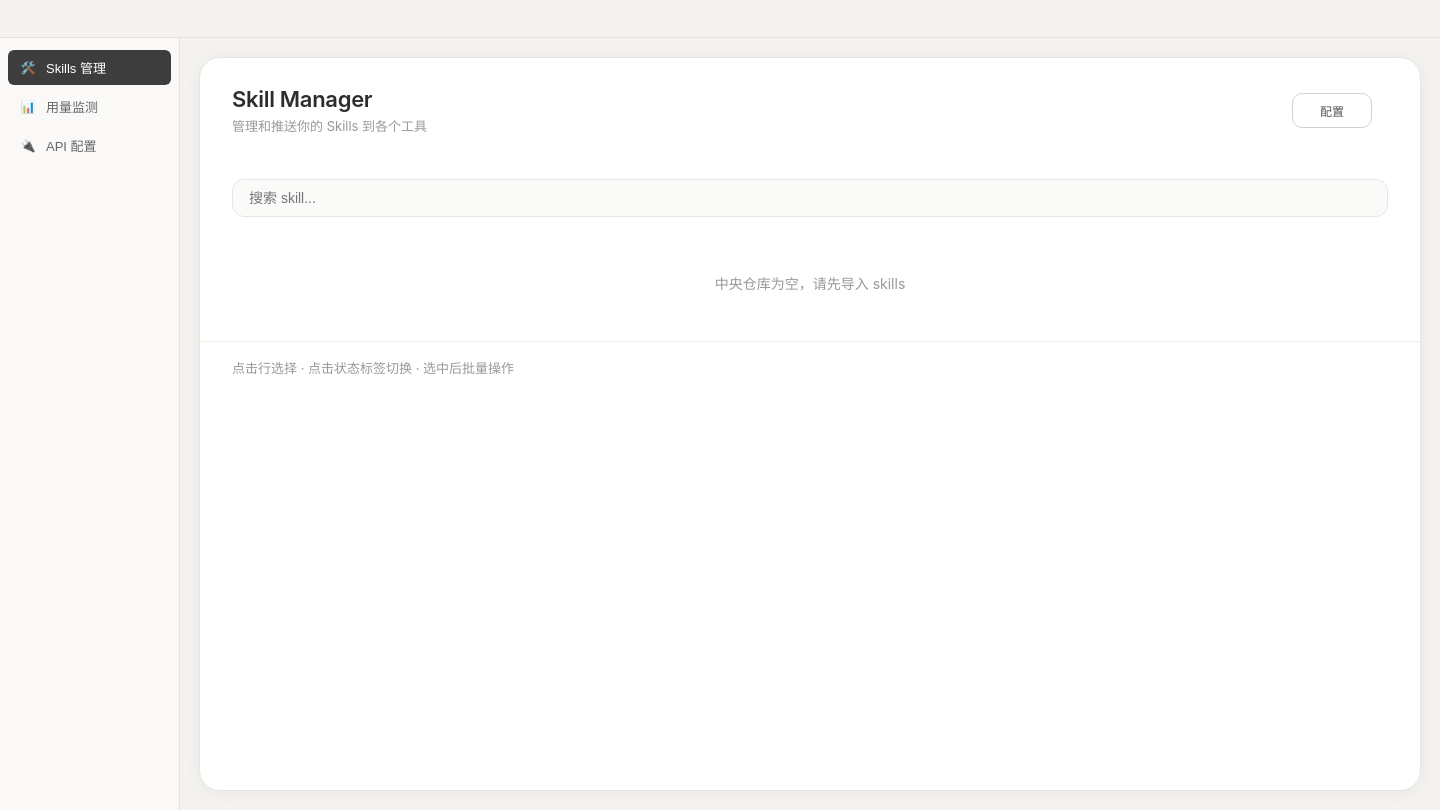
App V0.6 Usage Flow (Integration) › IT-02: 用量监测模块应展示明细表而不是占位卡片
Click the button with class "nav-item" showing "📊 用量监测": (90, 106) [8, 89, 171, 124]
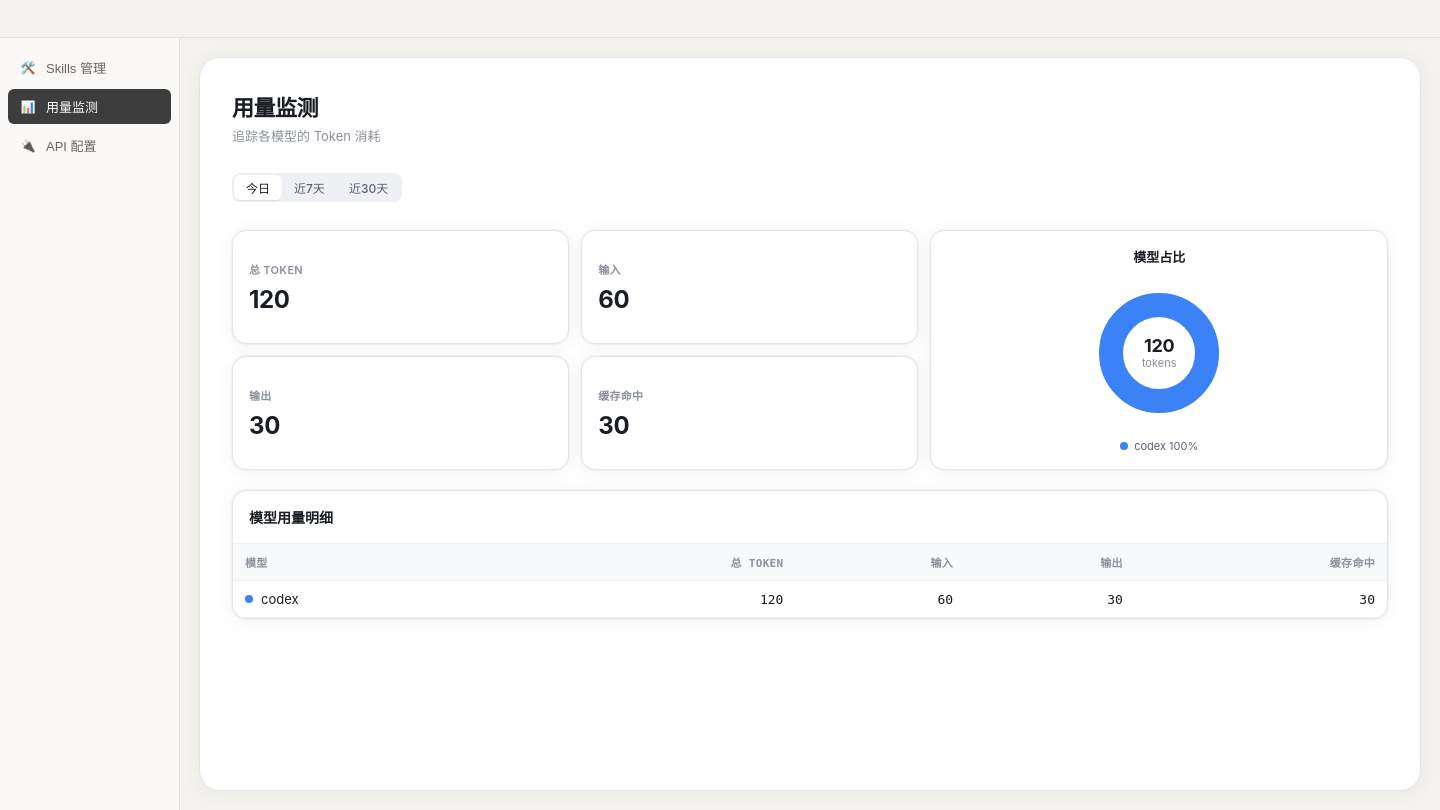
Expected: the text "模型用量明细" is shown, [249, 507, 333, 527]
